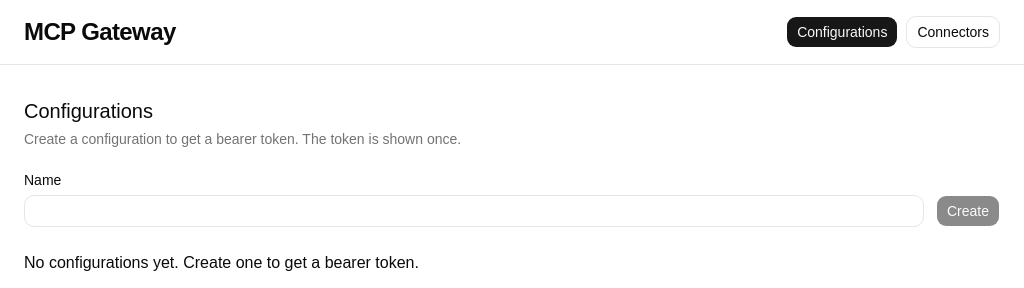
Test: admin-configurations-ui: Admin shell with Configurations and Connectors › Switching screens does not use a client router
The width and height of the screenshot is (1024, 288).
Expected: the heading "Configurations" is shown, [24,100,153,122]
Click the button "Connectors".
click(953, 32)  # box [906,16,1000,48]
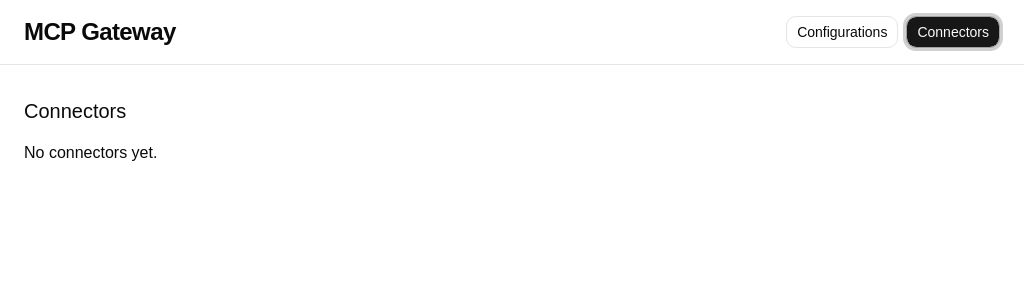
Result: the heading "Connectors" is shown at [24,100,126,122]
